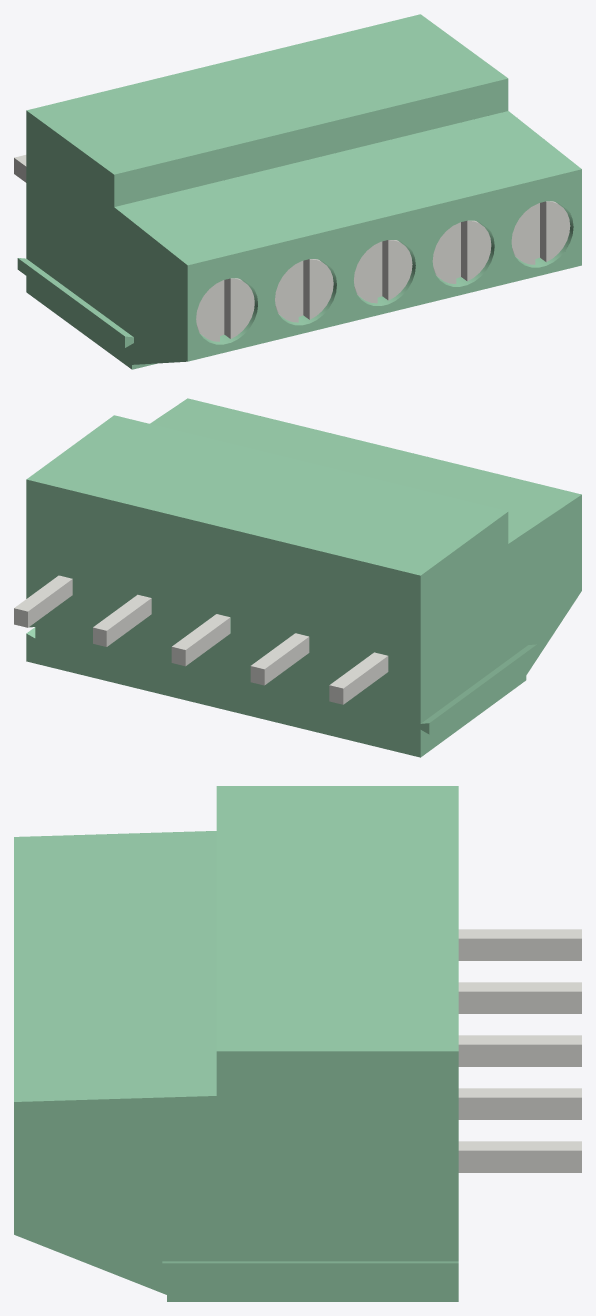
File: TerminalBlock_Phoenix_MKDS-3-5-5.08_1x05_P5.08mm_Horizontal.glb
The picture shows the model from 3 angles, top to bottom: view 1: azimuth 30°, elevation 25°; view 2: azimuth 150°, elevation 25°; view 3: azimuth 270°, elevation 25°; orthographic projection. The views are drawn at different scales.
Parts seen in each view (by area): view 1: Shape_IndexedFaceSet.005, Shape_IndexedFaceSet.003, Shape_IndexedFaceSet, Shape_IndexedFaceSet.002, Shape_IndexedFaceSet.004, Shape_IndexedFaceSet.018, Shape_IndexedFaceSet.213, Shape_IndexedFaceSet.218, Shape_IndexedFaceSet.208, Shape_IndexedFaceSet.203, Shape_IndexedFaceSet.198, Shape_IndexedFaceSet.202 (+5 smaller); view 2: Shape_IndexedFaceSet.006, Shape_IndexedFaceSet.005, Shape_IndexedFaceSet, Shape_IndexedFaceSet.003, Shape_IndexedFaceSet.018, Shape_IndexedFaceSet.031, Shape_IndexedFaceSet.035, Shape_IndexedFaceSet.023, Shape_IndexedFaceSet.027, Shape_IndexedFaceSet.039, Shape_IndexedFaceSet.007, Shape_IndexedFaceSet.040 (+4 smaller); view 3: Shape_IndexedFaceSet.012, Shape_IndexedFaceSet.005, Shape_IndexedFaceSet.003, Shape_IndexedFaceSet.025, Shape_IndexedFaceSet.029, Shape_IndexedFaceSet.033, Shape_IndexedFaceSet.037, Shape_IndexedFaceSet.041, Shape_IndexedFaceSet.020, Shape_IndexedFaceSet.024, Shape_IndexedFaceSet.028, Shape_IndexedFaceSet.032 (+3 smaller).
Boxes of the visible parts, left/top/right/bottom form: Shape_IndexedFaceSet.005: left=27, top=14, right=507, bottom=174; Shape_IndexedFaceSet.003: left=114, top=111, right=581, bottom=265; Shape_IndexedFaceSet: left=26, top=110, right=187, bottom=369; Shape_IndexedFaceSet.002: left=187, top=169, right=581, bottom=361; Shape_IndexedFaceSet.004: left=114, top=78, right=508, bottom=206; Shape_IndexedFaceSet.018: left=17, top=258, right=124, bottom=347; Shape_IndexedFaceSet.213: left=230, top=278, right=254, bottom=338; Shape_IndexedFaceSet.218: left=309, top=259, right=333, bottom=319; Shape_IndexedFaceSet.208: left=388, top=240, right=412, bottom=300; Shape_IndexedFaceSet.203: left=467, top=220, right=491, bottom=281; Shape_IndexedFaceSet.198: left=546, top=201, right=570, bottom=261; Shape_IndexedFaceSet.202: left=511, top=205, right=535, bottom=264; Shape_IndexedFaceSet.006: left=26, top=479, right=429, bottom=757; Shape_IndexedFaceSet.005: left=26, top=415, right=507, bottom=575; Shape_IndexedFaceSet: left=420, top=495, right=581, bottom=757; Shape_IndexedFaceSet.003: left=150, top=398, right=581, bottom=543; Shape_IndexedFaceSet.018: left=429, top=644, right=536, bottom=734; Shape_IndexedFaceSet.031: left=343, top=656, right=388, bottom=704; Shape_IndexedFaceSet.035: left=106, top=598, right=151, bottom=646; Shape_IndexedFaceSet.023: left=185, top=618, right=230, bottom=665; Shape_IndexedFaceSet.027: left=264, top=637, right=309, bottom=684; Shape_IndexedFaceSet.039: left=28, top=579, right=72, bottom=627; Shape_IndexedFaceSet.007: left=421, top=644, right=536, bottom=723; Shape_IndexedFaceSet.040: left=14, top=575, right=72, bottom=611; Shape_IndexedFaceSet.012: left=14, top=1051, right=458, bottom=1301; Shape_IndexedFaceSet.005: left=216, top=786, right=458, bottom=1051; Shape_IndexedFaceSet.003: left=14, top=831, right=216, bottom=1101; Shape_IndexedFaceSet.025: left=458, top=1044, right=581, bottom=1066; Shape_IndexedFaceSet.029: left=458, top=991, right=581, bottom=1013; Shape_IndexedFaceSet.033: left=458, top=938, right=581, bottom=960; Shape_IndexedFaceSet.037: left=458, top=1097, right=581, bottom=1119; Shape_IndexedFaceSet.041: left=458, top=1150, right=581, bottom=1172; Shape_IndexedFaceSet.020: left=162, top=1255, right=458, bottom=1261; Shape_IndexedFaceSet.024: left=458, top=1035, right=581, bottom=1044; Shape_IndexedFaceSet.028: left=458, top=982, right=581, bottom=991; Shape_IndexedFaceSet.032: left=458, top=929, right=581, bottom=938.
Size of the model in its own units: 10.22 by 4.41 by 9.06.
